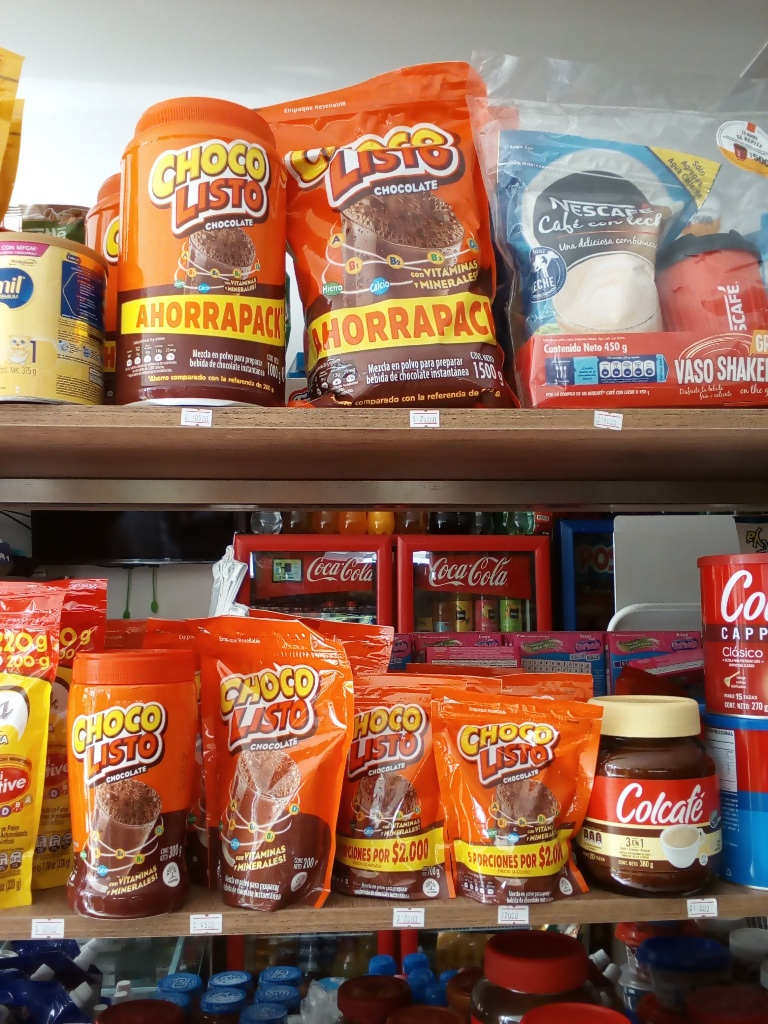COL0170103TRR00100: (111, 82, 299, 412)
